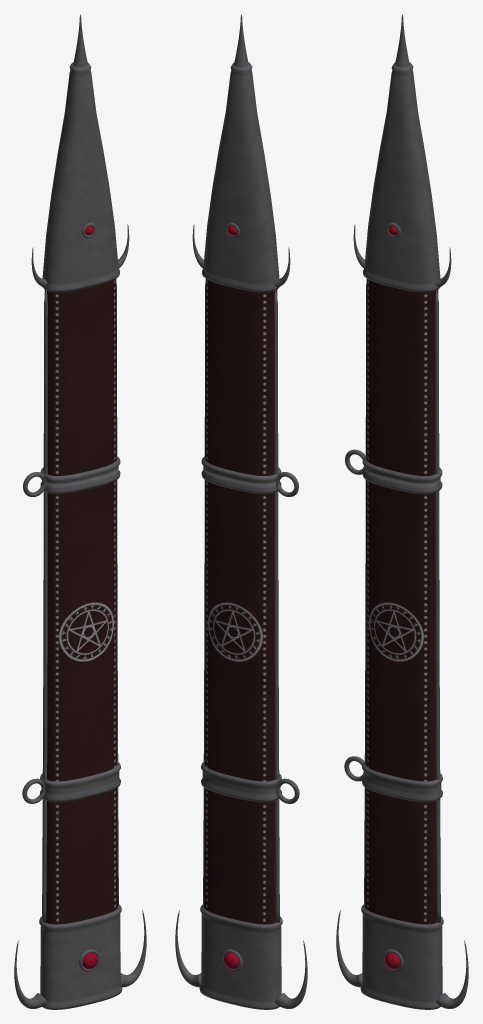
The model's file is w3_scabbard_vamp.fbx.
The picture shows the model from 3 angles, left to right: view 1: azimuth 30°, elevation 25°; view 2: azimuth 150°, elevation 25°; view 3: azimuth 330°, elevation 25°; orthographic projection.
Visible parts, largest first — view 1: w3_scabbard_vamp; view 2: w3_scabbard_vamp; view 3: w3_scabbard_vamp.
Part boxes in pixels (x1,y1,x2,y2): w3_scabbard_vamp: (14,14,146,1009); w3_scabbard_vamp: (175,14,307,1009); w3_scabbard_vamp: (336,14,468,1009).
Bounding box in the file's own units: 12.32 × 4.1 × 87.75.
